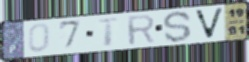0: (26, 22, 53, 55)
7: (57, 19, 84, 52)
R: (125, 13, 157, 47)
S: (162, 10, 194, 44)
T: (96, 17, 122, 48)
V: (192, 7, 226, 40)
